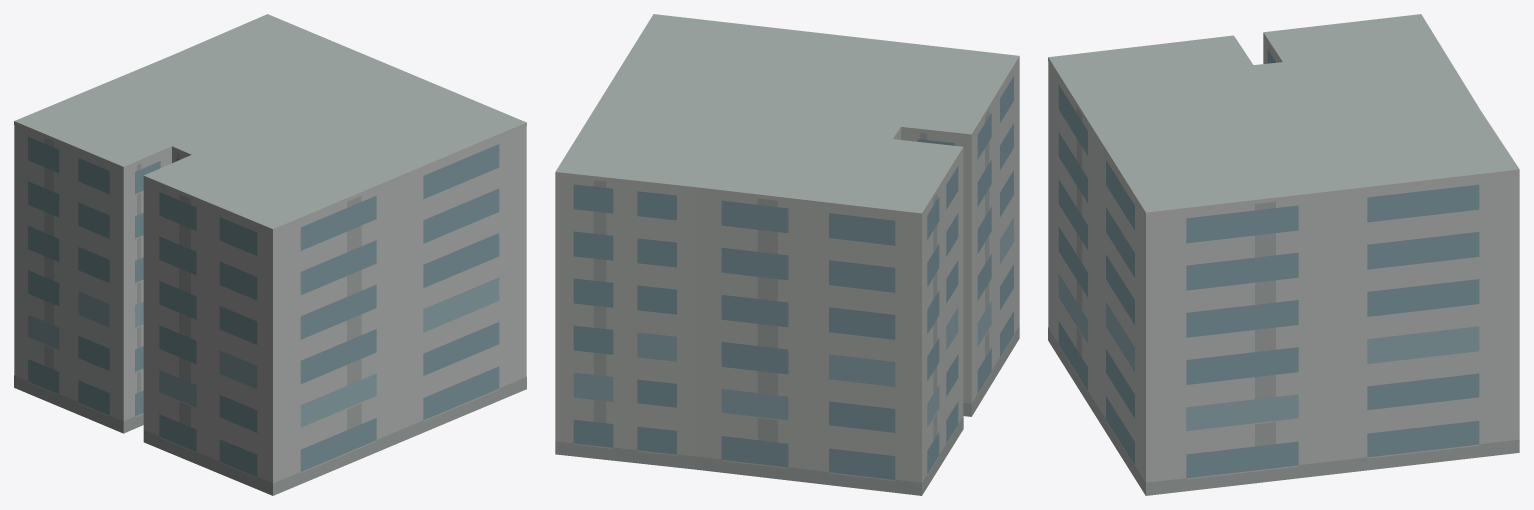
Rendered from survey-upis-32652226.glb.
3 renders of one model, left to right at view 1: azimuth 30°, elevation 25°; view 2: azimuth 150°, elevation 25°; view 3: azimuth 270°, elevation 25°, orthographic. The views are drawn at different scales.
Visible parts, largest first — view 1: survey-upis-32652226.tmp; view 2: survey-upis-32652226.tmp; view 3: survey-upis-32652226.tmp.
Part boxes in pixels (bbox=[...]): survey-upis-32652226.tmp: bbox=[14, 14, 526, 495]; survey-upis-32652226.tmp: bbox=[555, 14, 1019, 495]; survey-upis-32652226.tmp: bbox=[1048, 14, 1519, 495].
Size of the model in its own units: 25.86 by 17.2 by 25.95.
